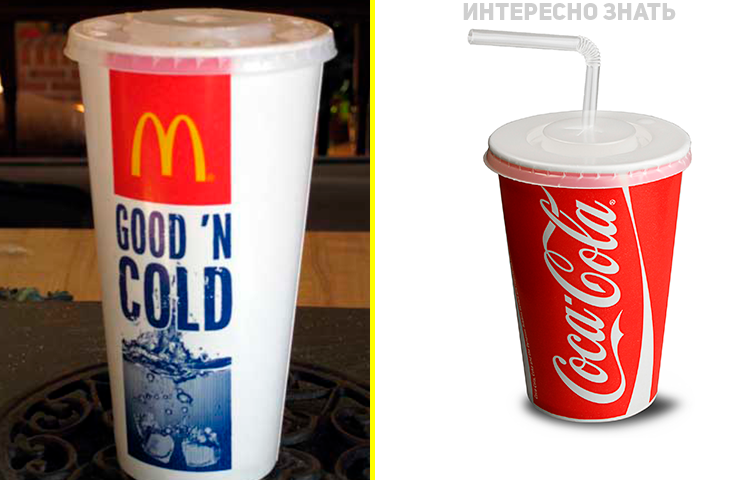mcdonalds: (118, 101, 211, 198)
